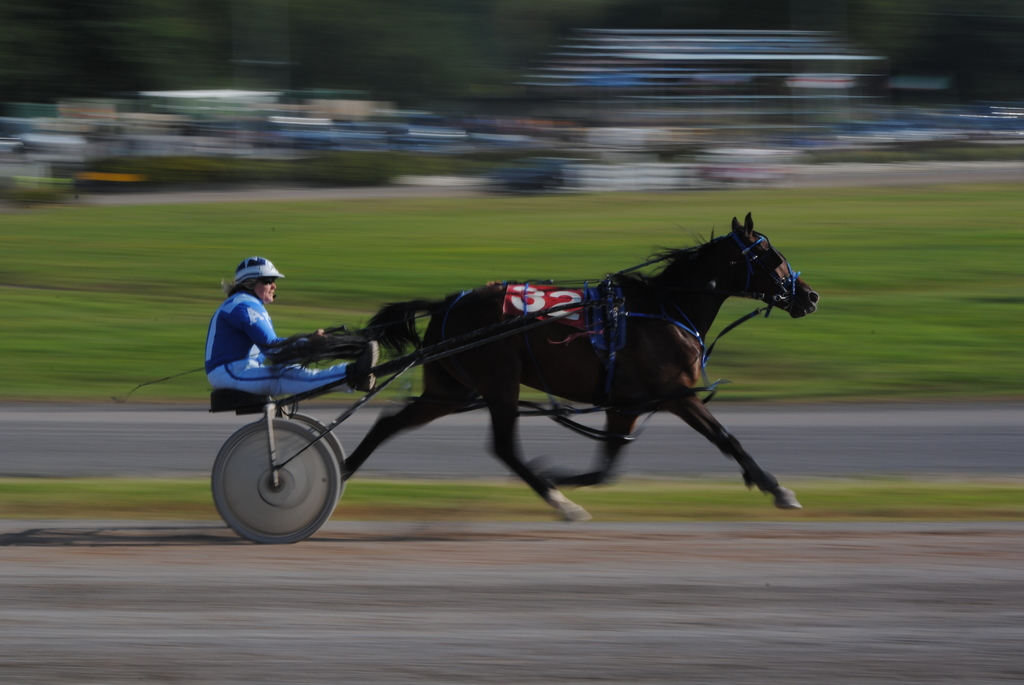Person: (204, 255, 380, 396)
